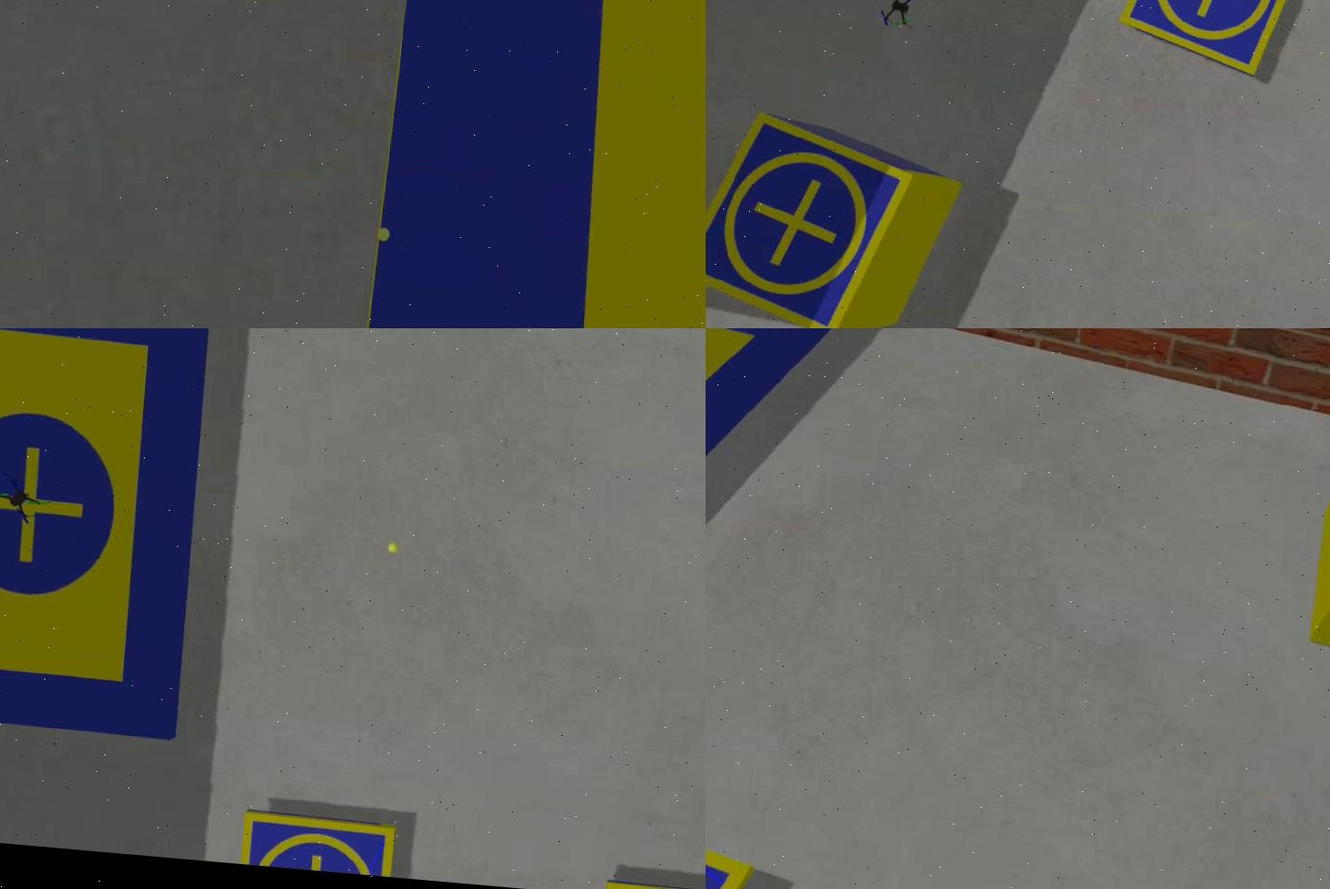large_base: (362, 1, 705, 328), (0, 328, 216, 742), (705, 328, 837, 692)
small_base: (705, 108, 923, 328), (1114, 1, 1311, 82), (236, 810, 394, 882)
